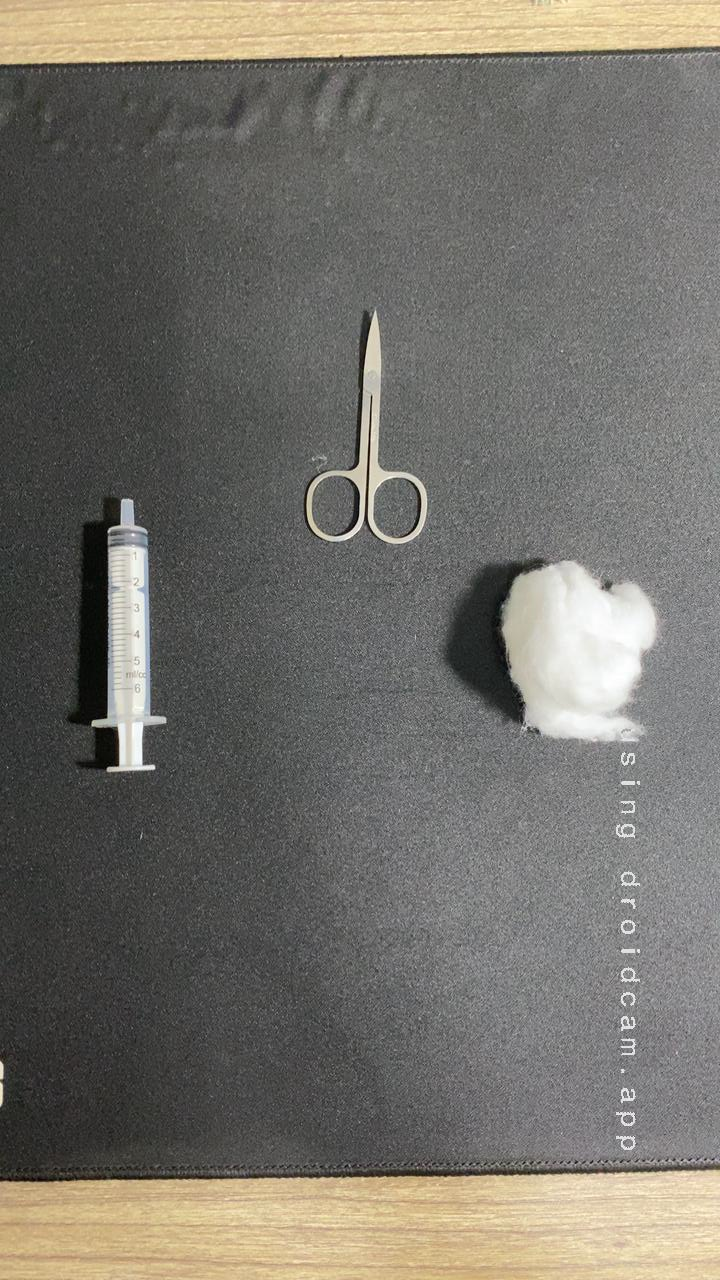cotton: (461, 531, 691, 761)
scissor: (282, 295, 445, 558)
syringe: (56, 488, 195, 785)
